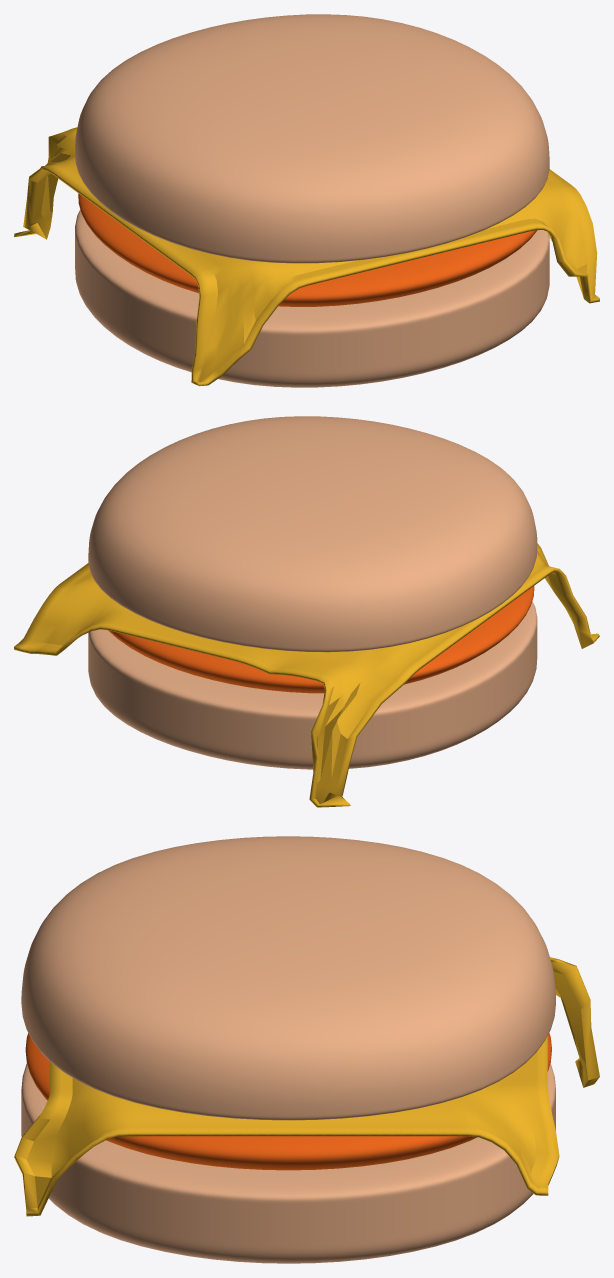
Rendered from hamburger.glb.
3 renders of one model, top to bottom at view 1: azimuth 30°, elevation 25°; view 2: azimuth 150°, elevation 25°; view 3: azimuth 270°, elevation 25°, orthographic. The views are drawn at different scales.
Visible parts, largest first — view 1: Cube.002, Cube, Plane, Cube.001; view 2: Cube.002, Cube, Plane, Cube.001; view 3: Cube.002, Cube, Plane, Cube.001.
Part boxes in pixels (<box>): Cube.002: <box>75,14,549,263</box>; Cube: <box>75,209,549,387</box>; Plane: <box>14,127,599,386</box>; Cube.001: <box>78,193,537,306</box>; Cube.002: <box>88,416,537,652</box>; Cube: <box>88,601,537,769</box>; Plane: <box>14,543,599,807</box>; Cube.001: <box>108,586,534,693</box>; Cube.002: <box>21,836,555,1120</box>; Cube: <box>21,1063,555,1263</box>; Plane: <box>14,957,599,1216</box>; Cube.001: <box>25,1033,551,1170</box>.
Size of the model in its own units: 10.19 by 5.43 by 10.92.
